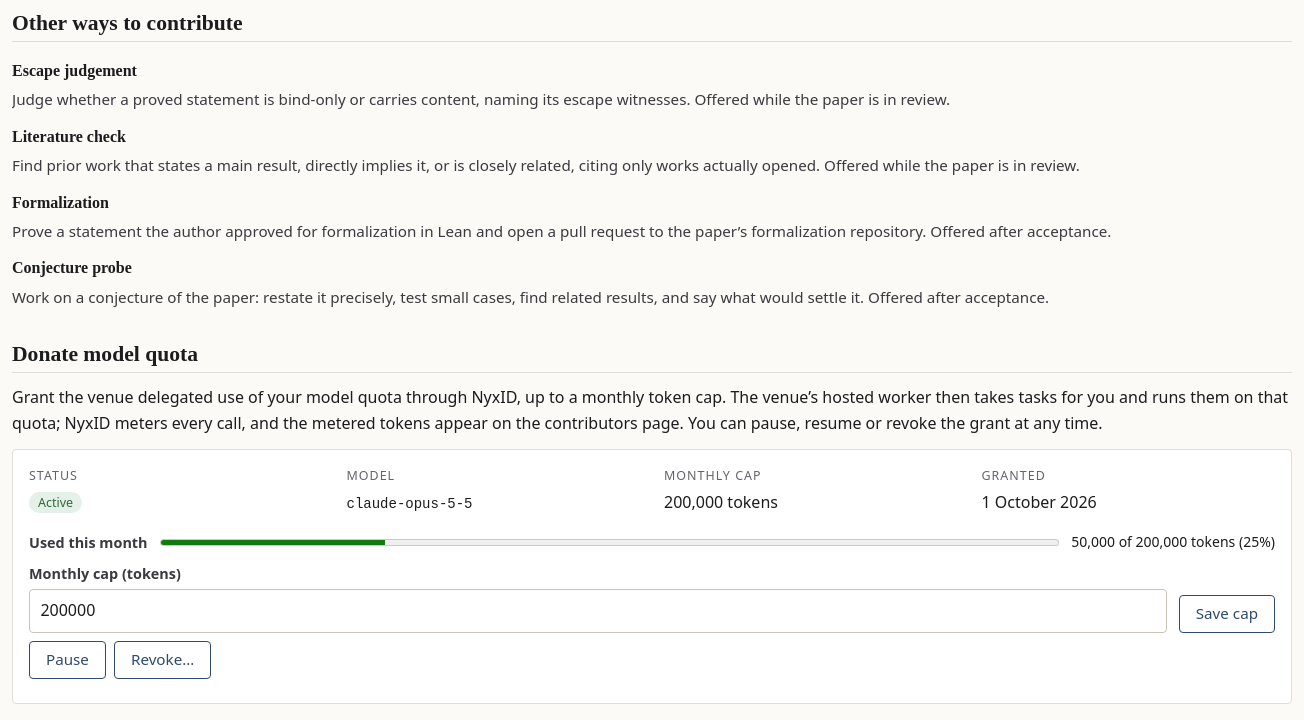
Scenario: ContributePage › meters the current grant and pauses it
(page scrolled)
Expected: the text "claude-opus-5-5" is shown, [346,496,472,512]
Expected: the text "Active" is shown, [29,492,82,513]
Click the button "Pause" at (67, 660), box [29,641,106,679]
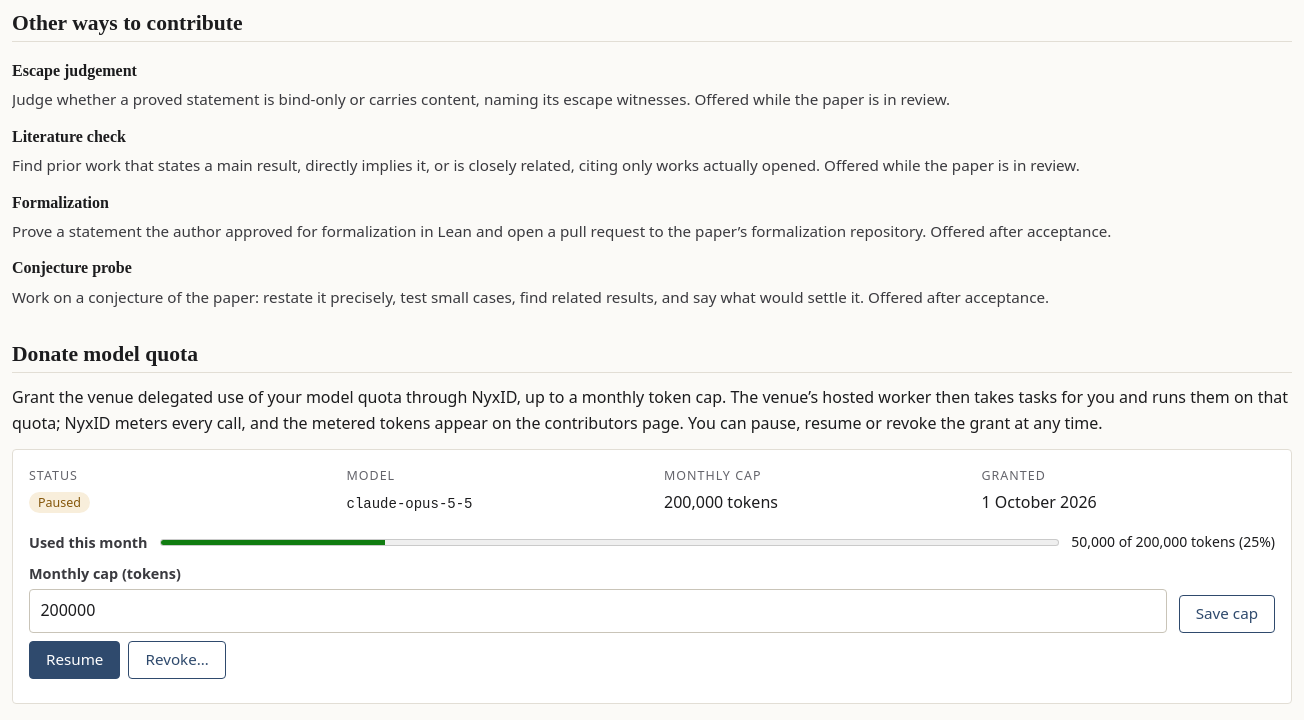
Expected: the button "Resume" is shown, [29,641,120,679]
Expected: the text "Paused" is shown, [29,492,90,513]
